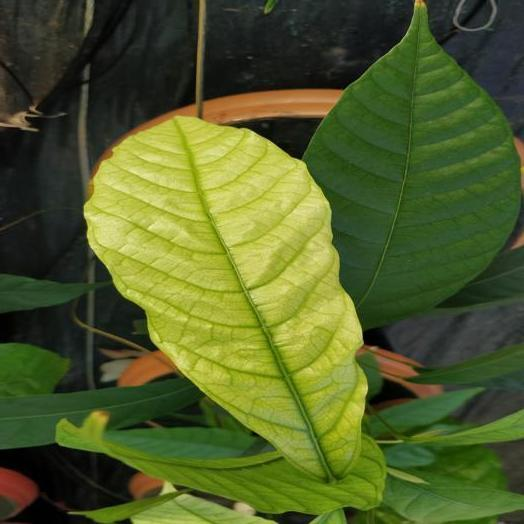Healthy Leaf: (304, 0, 519, 328), (57, 412, 385, 514), (0, 379, 202, 449), (385, 472, 523, 523)
Iron: (85, 117, 365, 482)
